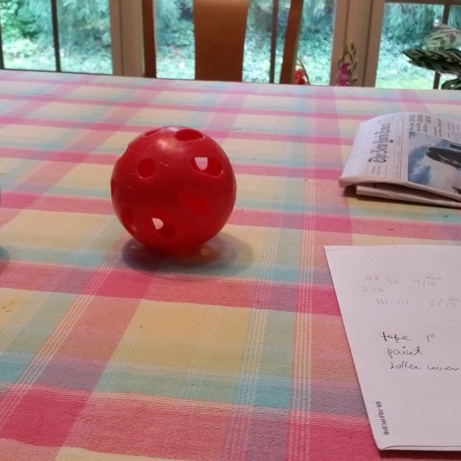redball: (107, 121, 241, 259)
